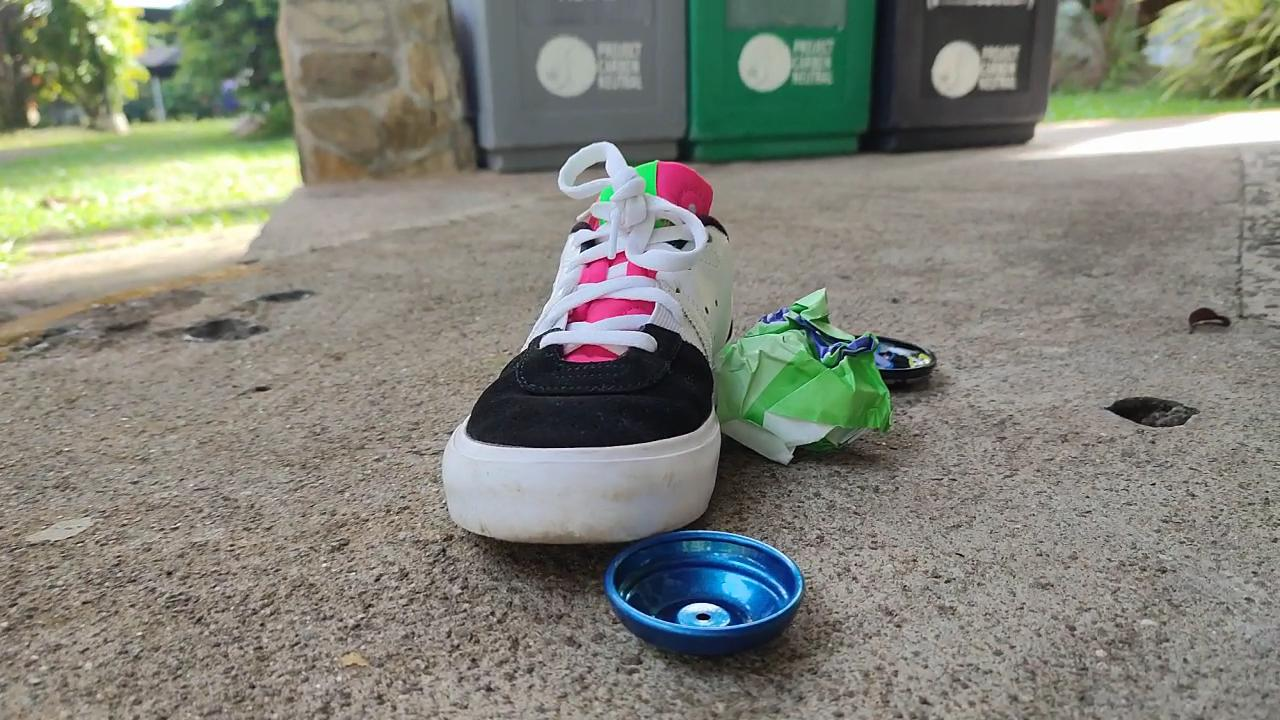Paper: (705, 271, 902, 474)
